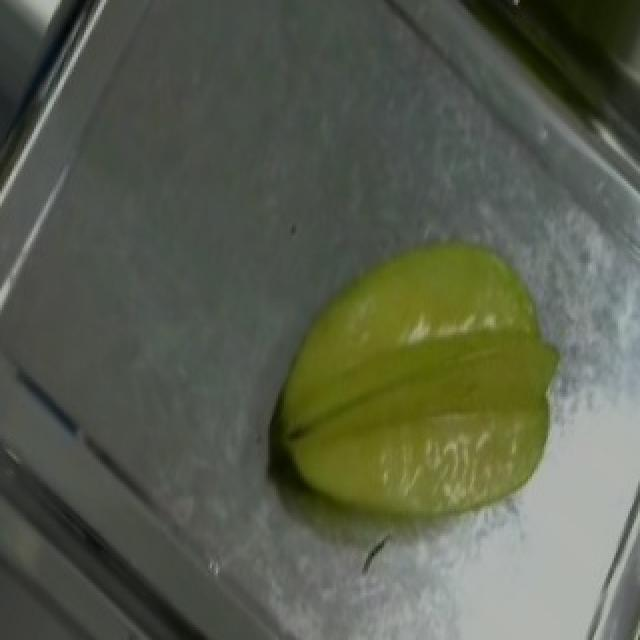fruit: (250, 189, 610, 573)
